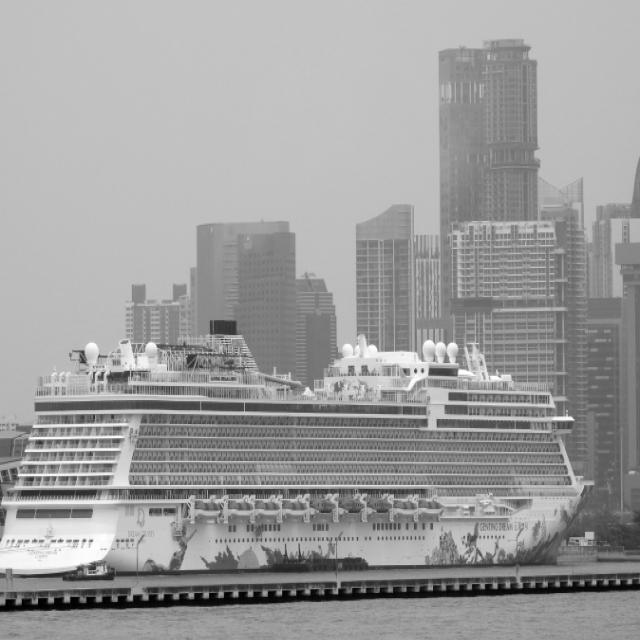cruises: (1, 313, 597, 586)
